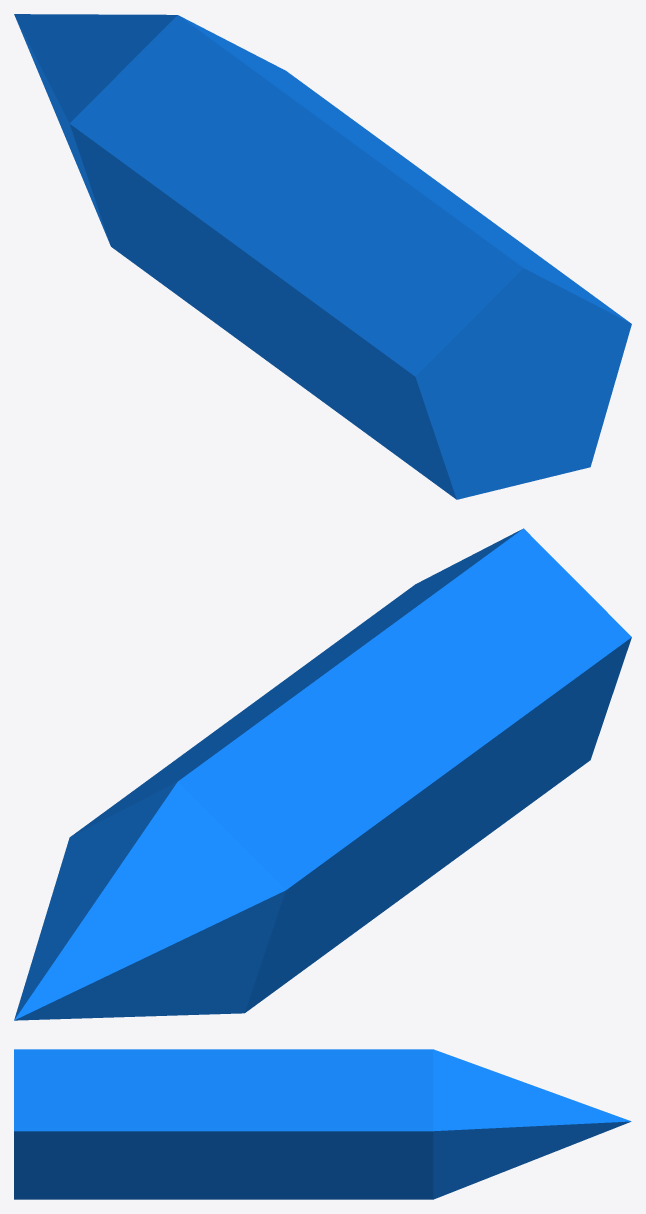
File: bullet1.obj
The picture shows the model from 3 angles, top to bottom: view 1: azimuth 30°, elevation 25°; view 2: azimuth 150°, elevation 25°; view 3: azimuth 270°, elevation 25°; orthographic projection. The views are drawn at different scales.
Parts seen in each view (by area): view 1: Cylinder; view 2: Cylinder; view 3: Cylinder.
Part boxes in pixels (box(x1,y1,x2,y2)): Cylinder: box(14, 14, 631, 499); Cylinder: box(14, 528, 631, 1020); Cylinder: box(14, 1049, 631, 1199).
Size of the model in its own units: 0.2945 by 0.28 by 1.2.
